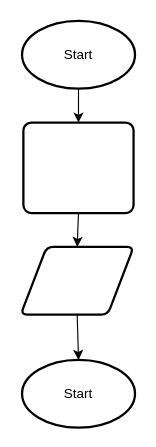
This 156x447 diagram has some shape labels left out. Each missing label, with the centre of its shape:
"find duplicates" belongs at pixel 78 167.
"return rows && columns && diagonals" belongs at pixel 76 280.
